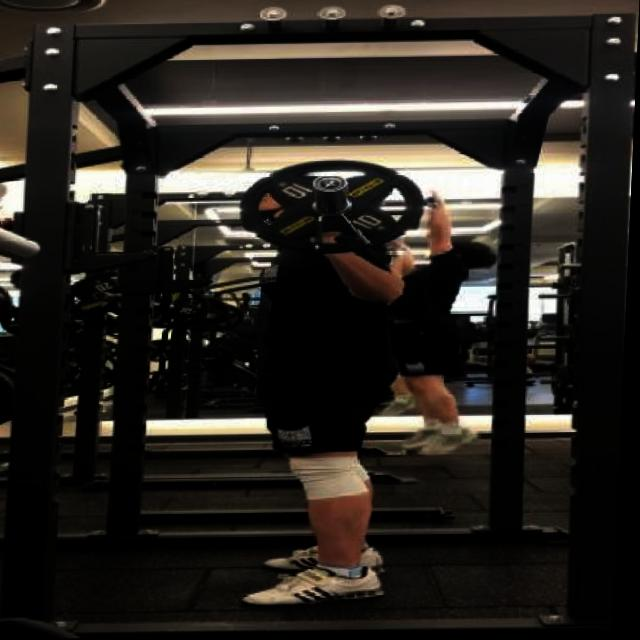barbell: (239, 156, 430, 259)
